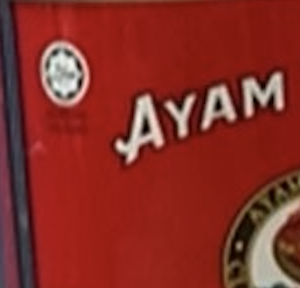halal: (51, 63, 79, 87)
